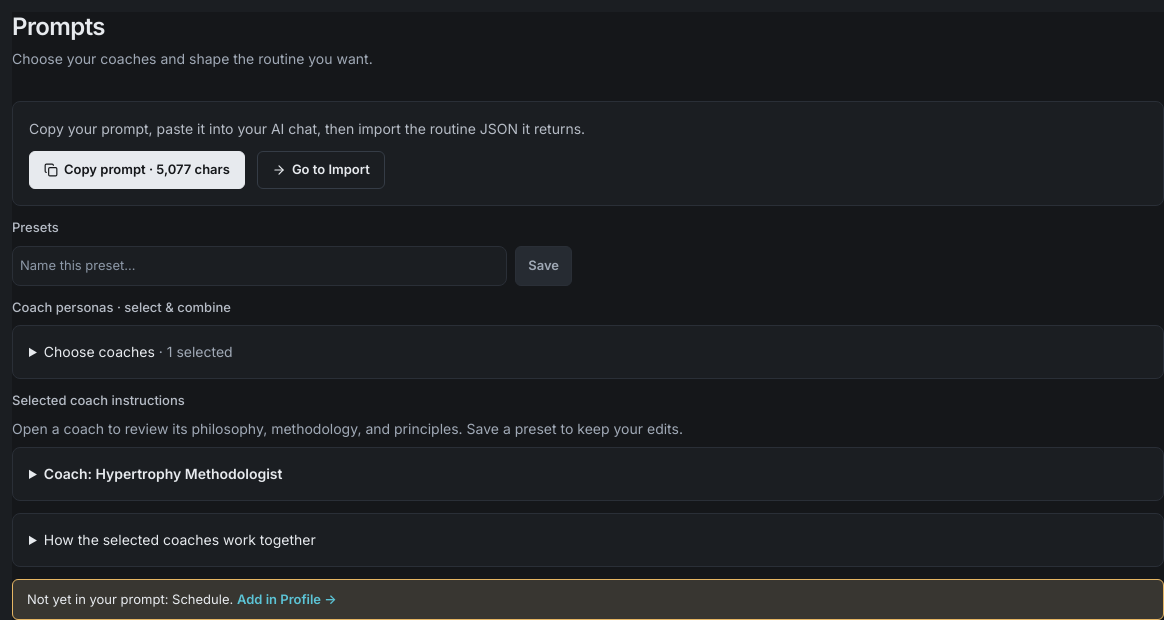
Test: PromptBuilderClient section review › keeps the coach catalogue folded until the user chooses to browse it
Expected: the button "Linear Progression Coach" is not shown
What coordinates should you click on to do the following:
click the text "Choose coaches"
I would click on:
 (99, 352)
Its box is 44,343 -> 155,360.
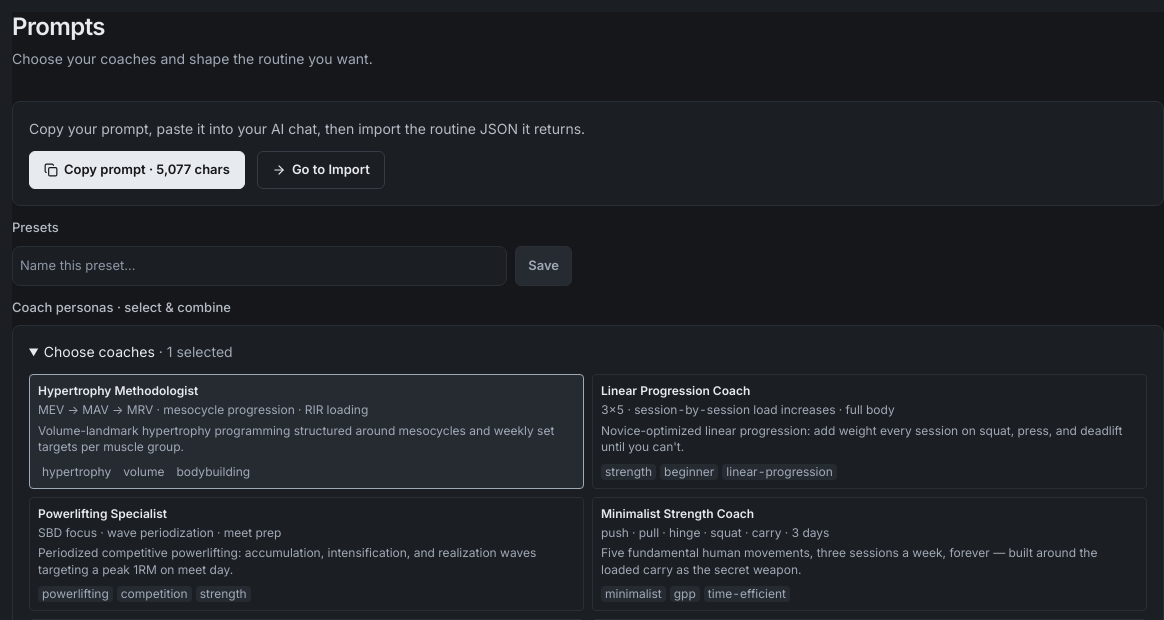
Now the button "Linear Progression Coach" is shown, box 592,374 -> 1147,488
